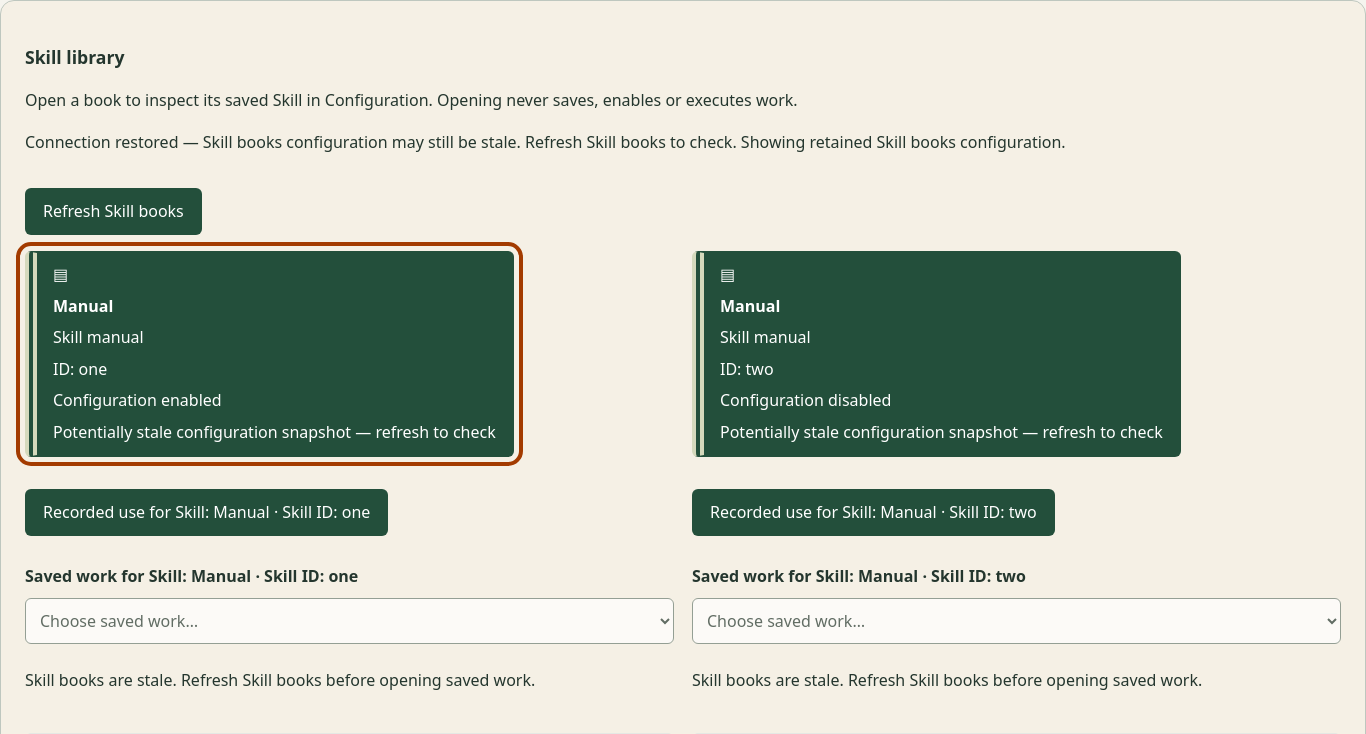
Test: failed and old-connection responses cannot override a newer refresh (old settles first: true)
Earlier steps of the test are not shown.
Later steps or results of the test are not shown.
Click the button "Refresh Skill books". click: (113, 211)
box: 25,188 -> 202,235
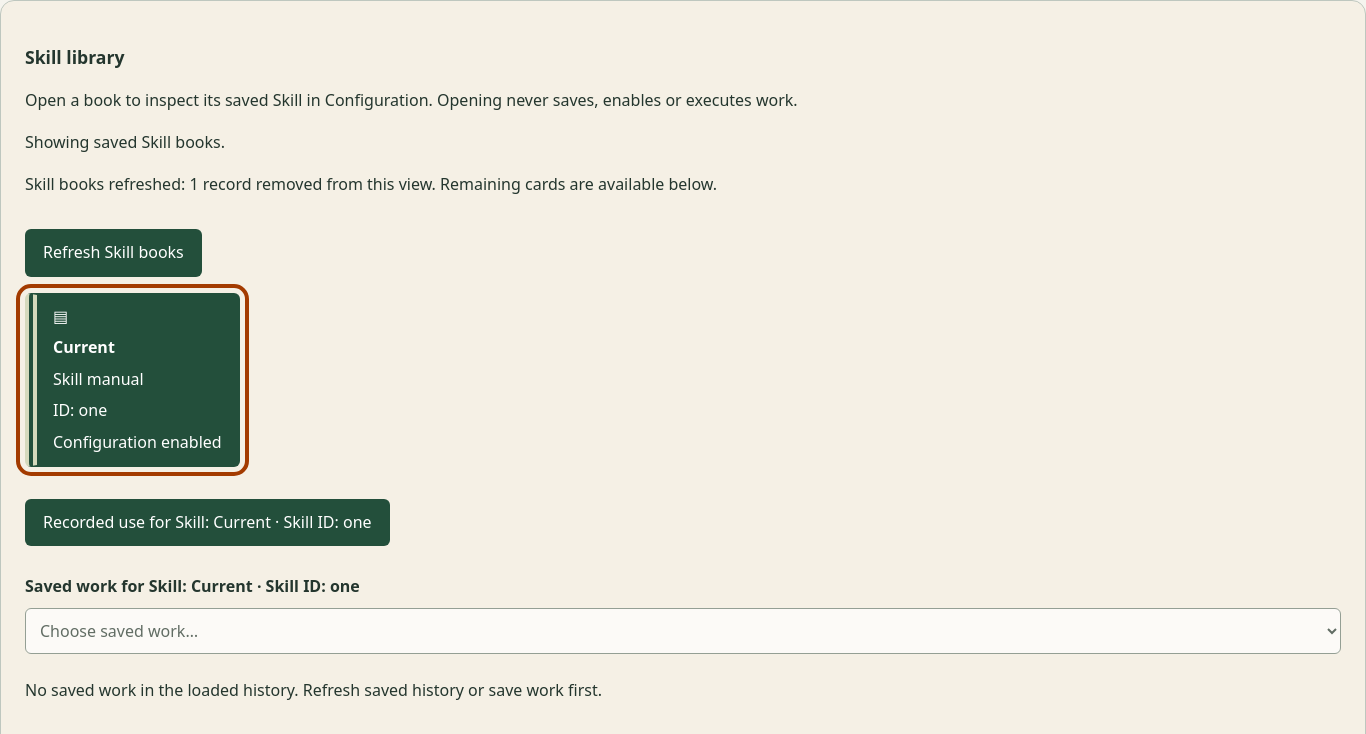
Result: the text named "Skill books removals" shows "1 record removed" at 25,172 -> 717,194
